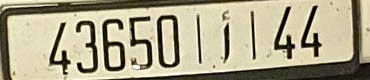0: (155, 14, 181, 69)
3: (75, 19, 99, 75)
4: (47, 21, 73, 76), (272, 5, 297, 61), (300, 5, 324, 58)
5: (128, 15, 154, 71)
6: (101, 18, 126, 73)
a: (219, 8, 233, 66)
